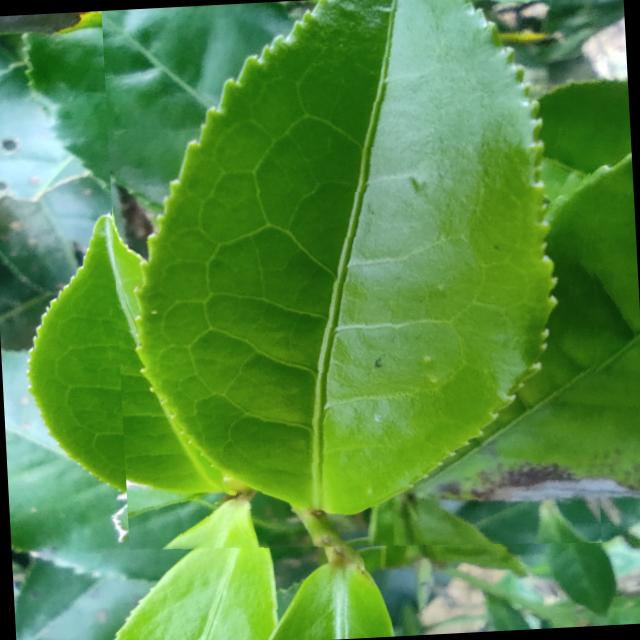Category C(4-7 days): (102, 0, 614, 567)
